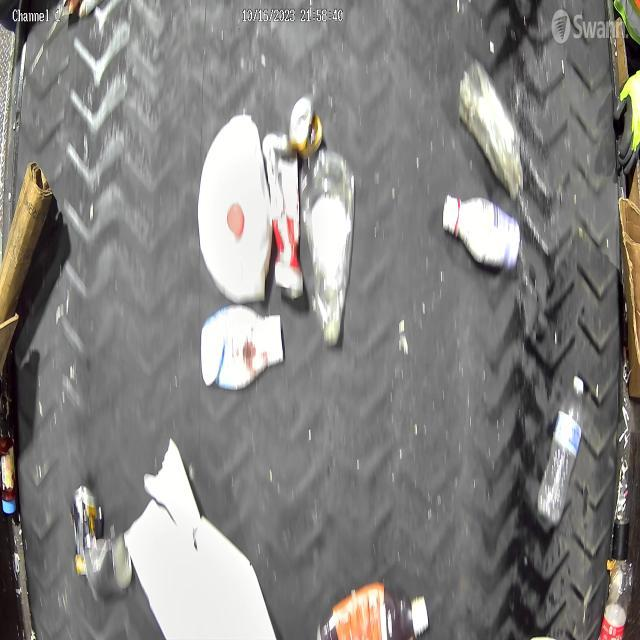can: (82, 532, 132, 606), (69, 483, 106, 578), (288, 94, 326, 162)
milk_jug: (197, 108, 274, 306)
plastic_bottle: (296, 147, 359, 352), (536, 372, 586, 530), (596, 557, 636, 640)
